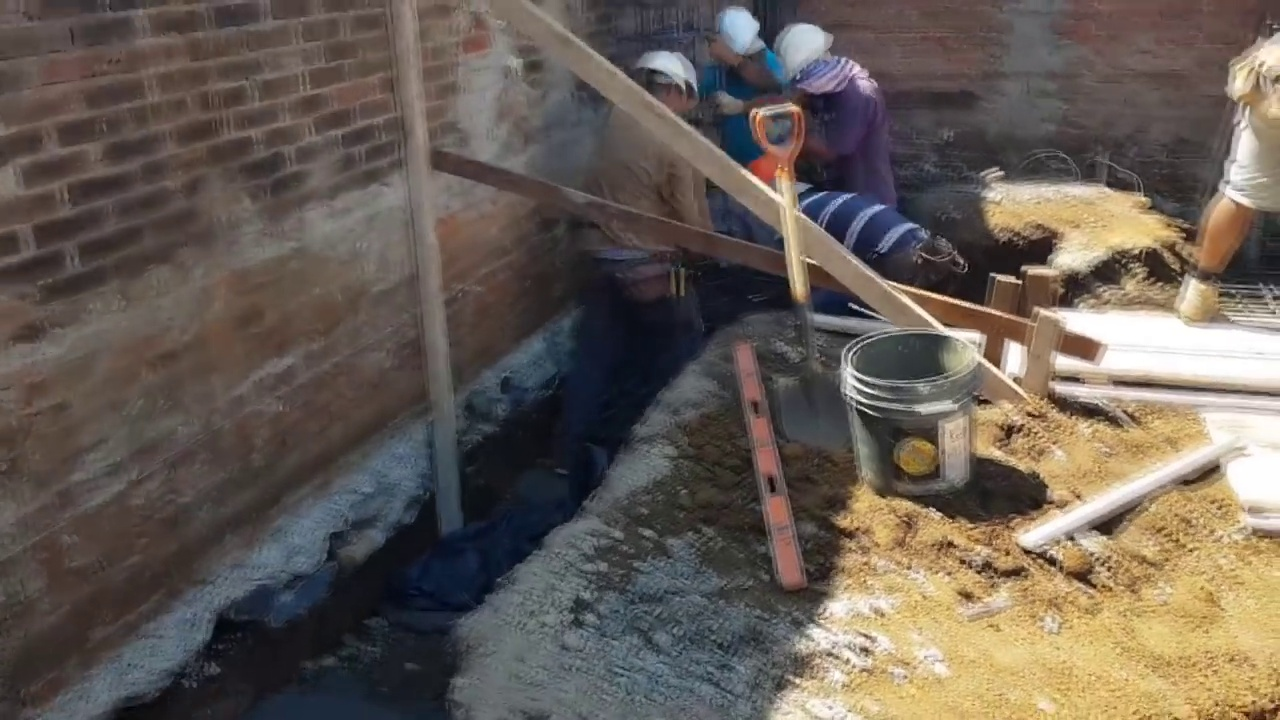helmet: (776, 24, 836, 83), (715, 8, 759, 57)
helmet-on: (777, 24, 852, 96), (632, 52, 696, 118), (715, 7, 769, 79), (637, 52, 697, 101)
person: (571, 53, 710, 446), (1177, 34, 1280, 324), (696, 8, 807, 264), (789, 179, 955, 322), (778, 24, 897, 199)
